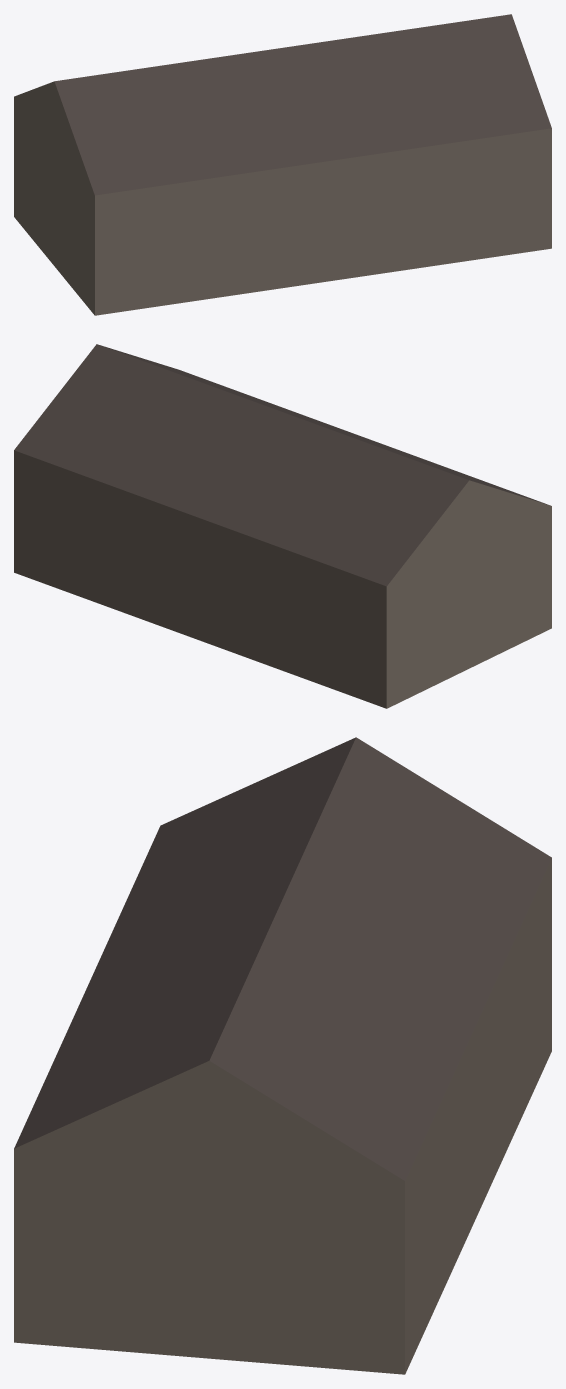
3 views of the same model, one above another, from view 1: azimuth 30°, elevation 25°; view 2: azimuth 150°, elevation 25°; view 3: azimuth 270°, elevation 25° (orthographic). The views are drawn at different scales.
Parts seen in each view (by area): view 1: HP-w859078989; view 2: HP-w859078989; view 3: HP-w859078989.
Boxes of the visible parts, bbox=[...] form: HP-w859078989: bbox=[14, 14, 551, 315]; HP-w859078989: bbox=[14, 344, 551, 708]; HP-w859078989: bbox=[14, 737, 551, 1374].
Bounding box in the file's own units: 23.63 × 9.23 × 15.11.
